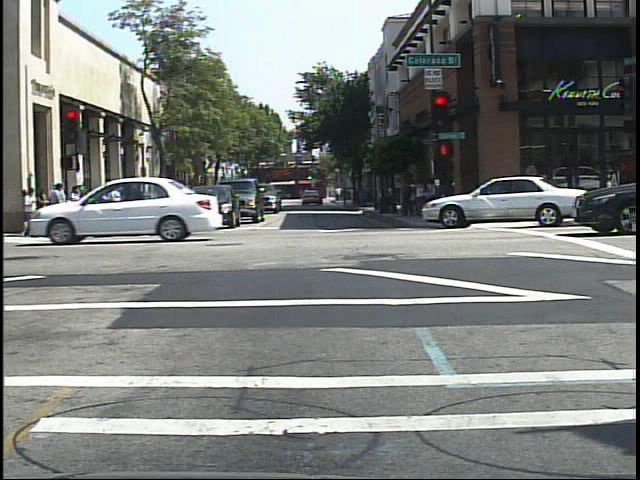person: (104, 179, 122, 224)
